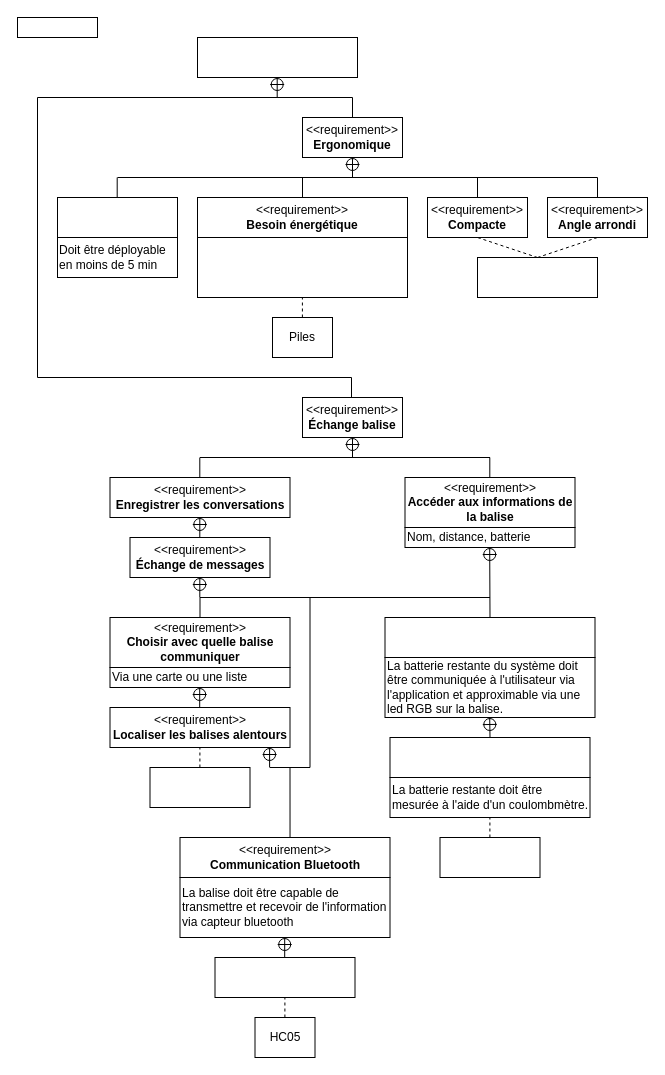
This 665x1075 diagram has some shape labels left out. The shapes that lost their labels are listed below. From the top down, each one's centre as x and y in pixels, then its label:
At (57,27): "Requirements".
At (277,57): "<<requirement>> Exigences Balise LoRa".
At (117,217): "<<requirement>> Déploiement rapide".
At (302,267): "Le système a besoin d'une alimentation pouvant assurer jusqu'à 5V".
At (537,277): "Boitier de la balise".
At (489,637): "<<requirement>> Autonomie lisible".
At (489,757): "<<requirement>> Autonomie mesurable".
At (199,787): "Antennes Lora".
At (489,857): "Capteur coulombmètre".
At (284,977): "<<requirement>> Connexion bluetooth".
